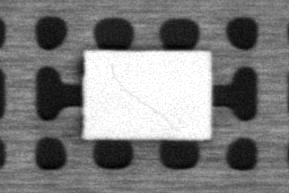DIE_CRACK: (109, 62, 179, 133)
